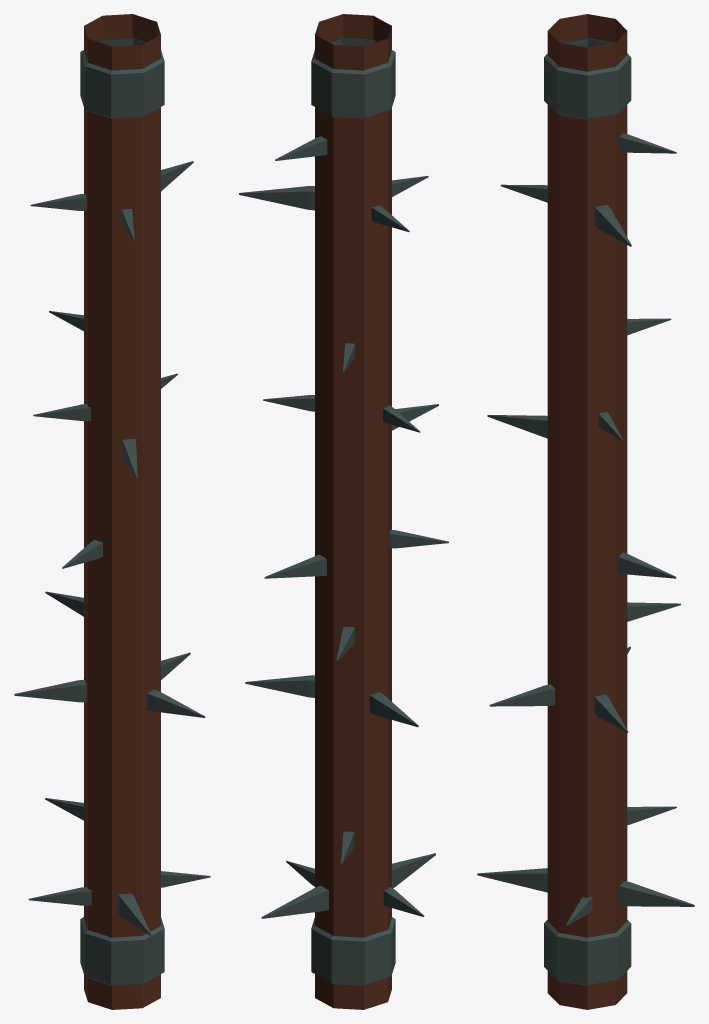
The model's file is Blades.fbx.
The picture shows the model from 3 angles, left to right: view 1: azimuth 30°, elevation 25°; view 2: azimuth 150°, elevation 25°; view 3: azimuth 270°, elevation 25°; orthographic projection.
Parts seen in each view (by area): view 1: Blades; view 2: Blades; view 3: Blades.
Part boxes in pixels (left/top/right/bottom): Blades: left=14, top=14, right=210, bottom=1009; Blades: left=239, top=14, right=448, bottom=1009; Blades: left=477, top=14, right=694, bottom=1009.
Bounding box in the file's own units: 0.7791 × 4 × 0.8199.
